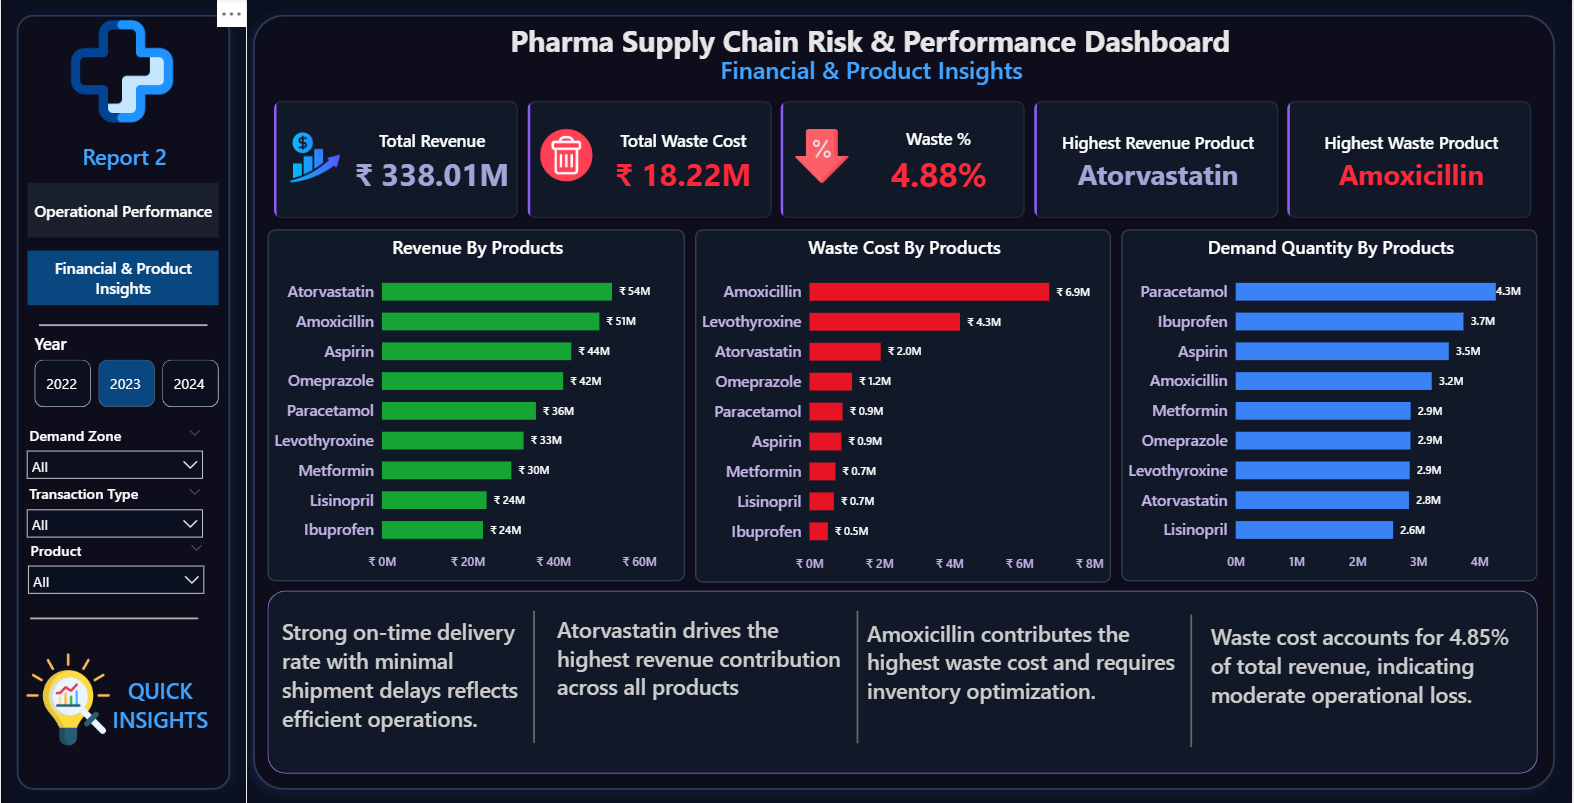

This screenshot's page, from the dashboard's own definition file:
{"tool":"powerbi","page":{"name":"Financial & Product Insights","canvas":[1750,900],"ordinal":1},"visuals":[{"type":"shape","box":[263.3,0,1486.7,900],"z":0},{"type":"slicer","fields":{"Values":["pharma_dashboard_ready_data.demand_zone"]},"box":[19.9,470.3,216.3,65.6],"z":0,"group":"g3"},{"type":"shape","box":[0,0,275,900],"z":1000},{"type":"slicer","fields":{"Values":["pharma_dashboard_ready_data.transaction_type"]},"box":[19.4,535.1,216.3,80],"z":1000,"group":"g3"},{"type":"textbox","box":[499.6,20.2,938.6,62.4],"z":2000},{"type":"slicer","fields":{"Values":["pharma_dashboard_ready_data.product_name"]},"box":[20.4,597.8,216.7,80.4],"z":2000,"group":"g3"},{"type":"cardVisual","fields":{"Data":["pharma_dashboard_ready_data.Total Revenue","pharma_dashboard_ready_data.Total Waste Cost","pharma_dashboard_ready_data.Waste %","pharma_dashboard_ready_data.Highest Revenue Product","pharma_dashboard_ready_data.Highest Waste Product"]},"box":[288,97.4,1438.3,165],"z":3000},{"type":"pageNavigator","box":[30.4,205.4,213,137],"z":4000},{"type":"clusteredBarChart","title":"Revenue By Products","fields":{"Category":["pharma_dashboard_ready_data.product_name"],"Y":["pharma_dashboard_ready_data.Total Revenue"]},"box":[297.5,257.1,465,391.7],"z":4000,"group":"g2"},{"type":"image","box":[62.8,19,146.5,123.6],"z":5000},{"type":"clusteredBarChart","title":"Waste Cost By Products","fields":{"Category":["pharma_dashboard_ready_data.product_name"],"Y":["pharma_dashboard_ready_data.Total Waste Cost"]},"box":[773.7,256.9,463.3,393.3],"z":5000,"group":"g2"},{"type":"textbox","box":[68.5,156,140.8,49.5],"z":6000},{"type":"clusteredBarChart","title":"Demand Quantity By Products","fields":{"Category":["pharma_dashboard_ready_data.product_name"],"Y":["Sum(pharma_dashboard_ready_data.quantity)"]},"box":[1247.7,257.3,463.3,391.7],"z":6000,"group":"g2"},{"type":"group","id":"g1","title":"Group 2","box":[19.4,367.1,232,311.1],"z":7000},{"type":"textbox","box":[501.4,56.9,938.6,51.4],"z":8000},{"type":"shape","box":[43.8,342.4,188.3,43.8],"z":9000},{"type":"advancedSlicerVisual","title":"Year","fields":{"Values":["pharma_dashboard_ready_data.year"]},"box":[33.6,367.1,217.8,93.8],"z":9000,"group":"g1"},{"type":"group","id":"g2","title":"Group 3","box":[297.5,256.9,1413.6,393.3],"z":10000},{"type":"shape","box":[298,660,1414,204],"z":11000},{"type":"group","id":"g3","title":"Group 1","box":[19.4,470.3,217.7,207.9],"z":12000,"group":"g1"},{"type":"shape","box":[861.6,682.2,186.4,148.4],"z":12000,"group":"g4"},{"type":"textbox","box":[95.1,749.5,167.4,102.7],"z":12000},{"type":"shape","box":[500.7,681.3,187.1,147.7],"z":13000},{"type":"textbox","box":[615,681.7,330,116.6],"z":13000,"group":"g4"},{"type":"textbox","box":[959.7,686.1,369.4,134.6],"z":14000,"group":"g4"},{"type":"image","box":[24.6,720.7,101.8,119.8],"z":14000},{"type":"shape","box":[32.8,669.8,187.1,42.7],"z":15000},{"type":"textbox","box":[1342.3,690.2,384.1,141.2],"z":15000,"group":"g4"},{"type":"textbox","box":[308.6,684.6,307,141.2],"z":16000},{"type":"shape","box":[1232.5,686,186.4,148.4],"z":16000,"group":"g4"},{"type":"group","id":"g4","title":"Group 4","box":[615,681.7,1113.3,151.7],"z":17000}]}

Visuals, with their boxes on the page's 1750x900 design canvas (x1, y1, x2, y2). These are canvas units, not pixel positions in the 1574x803 screenshot, which may show the page scaled, cropped or inside an application window:
shape: (x1=263, y1=0, x2=1750, y2=900)
slicer - pharma_dashboard_ready_data.demand_zone: (x1=20, y1=470, x2=236, y2=536)
shape: (x1=0, y1=0, x2=275, y2=900)
slicer - pharma_dashboard_ready_data.transaction_type: (x1=19, y1=535, x2=236, y2=615)
textbox: (x1=500, y1=20, x2=1438, y2=83)
slicer - pharma_dashboard_ready_data.product_name: (x1=20, y1=598, x2=237, y2=678)
cardVisual - pharma_dashboard_ready_data.Total Revenue x pharma_dashboard_ready_data.Total Waste Cost: (x1=288, y1=97, x2=1726, y2=262)
pageNavigator: (x1=30, y1=205, x2=243, y2=342)
"Revenue By Products" clusteredBarChart: (x1=298, y1=257, x2=762, y2=649)
image: (x1=63, y1=19, x2=209, y2=143)
"Waste Cost By Products" clusteredBarChart: (x1=774, y1=257, x2=1237, y2=650)
textbox: (x1=68, y1=156, x2=209, y2=206)
"Demand Quantity By Products" clusteredBarChart: (x1=1248, y1=257, x2=1711, y2=649)
"Group 2" group: (x1=19, y1=367, x2=251, y2=678)
textbox: (x1=501, y1=57, x2=1440, y2=108)
shape: (x1=44, y1=342, x2=232, y2=386)
"Year" advancedSlicerVisual: (x1=34, y1=367, x2=251, y2=461)
"Group 3" group: (x1=298, y1=257, x2=1711, y2=650)
shape: (x1=298, y1=660, x2=1712, y2=864)
"Group 1" group: (x1=19, y1=470, x2=237, y2=678)
shape: (x1=862, y1=682, x2=1048, y2=831)
textbox: (x1=95, y1=750, x2=262, y2=852)
shape: (x1=501, y1=681, x2=688, y2=829)
textbox: (x1=615, y1=682, x2=945, y2=798)
textbox: (x1=960, y1=686, x2=1329, y2=821)
image: (x1=25, y1=721, x2=126, y2=840)
shape: (x1=33, y1=670, x2=220, y2=712)
textbox: (x1=1342, y1=690, x2=1726, y2=831)
textbox: (x1=309, y1=685, x2=616, y2=826)
shape: (x1=1232, y1=686, x2=1419, y2=834)
"Group 4" group: (x1=615, y1=682, x2=1728, y2=833)
